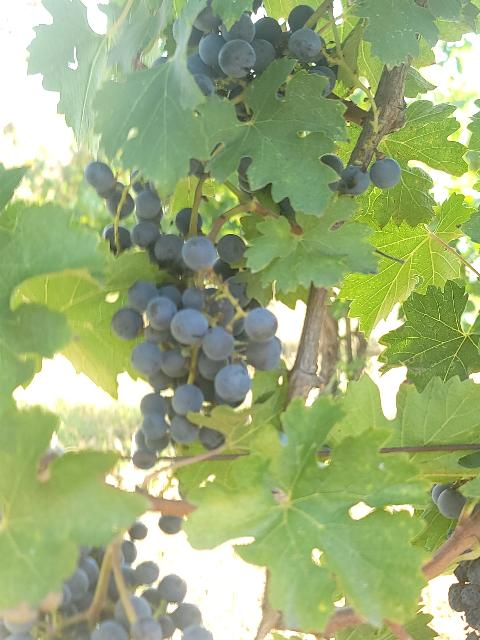grapes: (111, 280, 281, 469), (0, 554, 212, 640), (84, 161, 218, 271), (188, 4, 336, 96)
